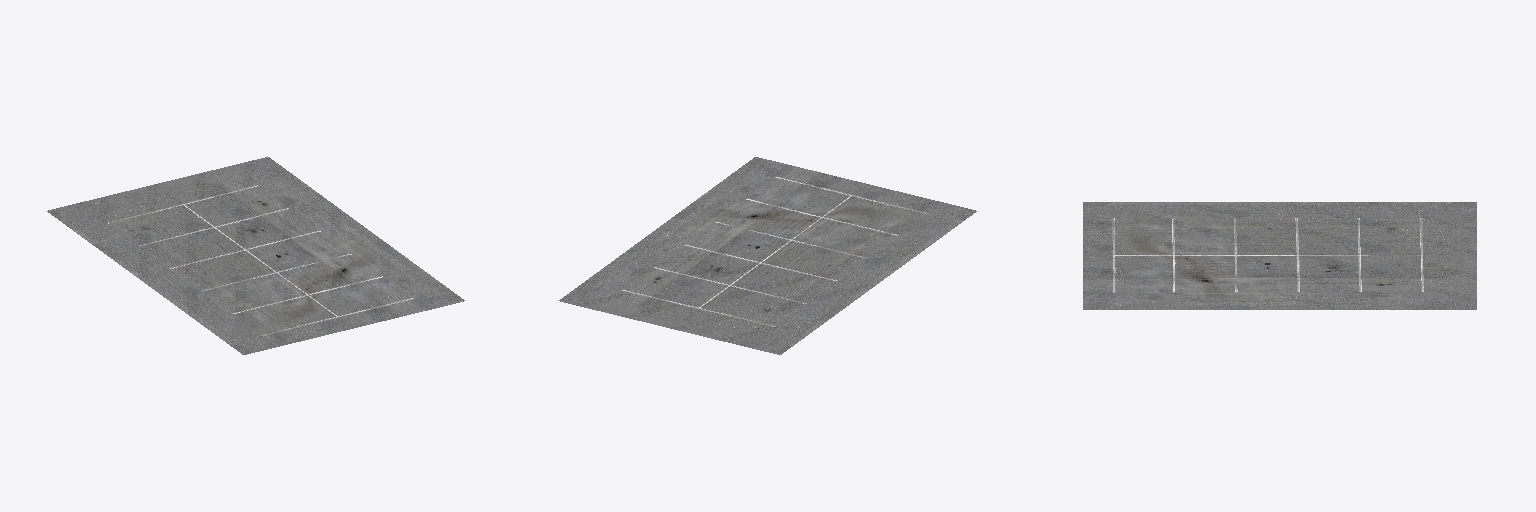
3 renders of one model, left to right at view 1: azimuth 30°, elevation 25°; view 2: azimuth 150°, elevation 25°; view 3: azimuth 270°, elevation 25°, orthographic.
Visible parts, largest first — view 1: Plane.002_Plane.005; view 2: Plane.002_Plane.005; view 3: Plane.002_Plane.005.
Part boxes in pixels (bbox=[...]): Plane.002_Plane.005: bbox=[47, 157, 464, 354]; Plane.002_Plane.005: bbox=[559, 157, 976, 354]; Plane.002_Plane.005: bbox=[1083, 202, 1476, 309].
Size of the model in its own units: 7.9 by 0 by 12.15.
Materials: 1 (1 with a texture image).